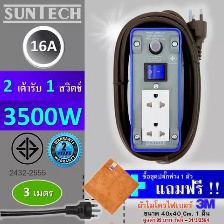three_eye_plug: (126, 24, 184, 154)
